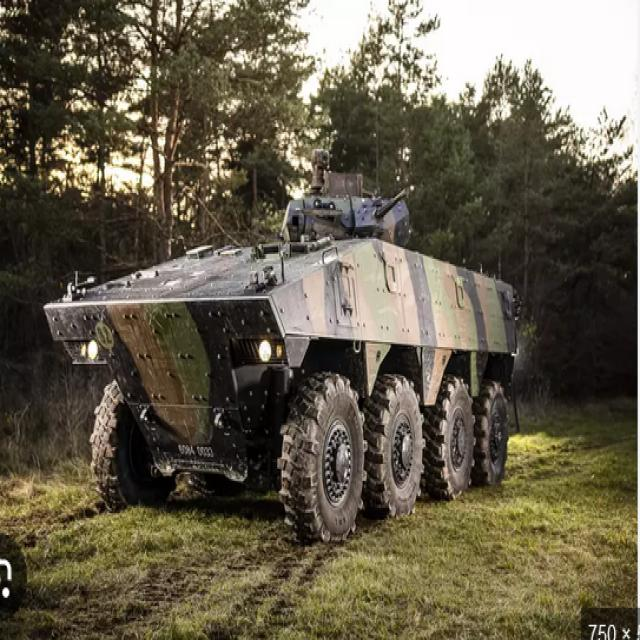MIL_APC: (36, 181, 538, 532)
